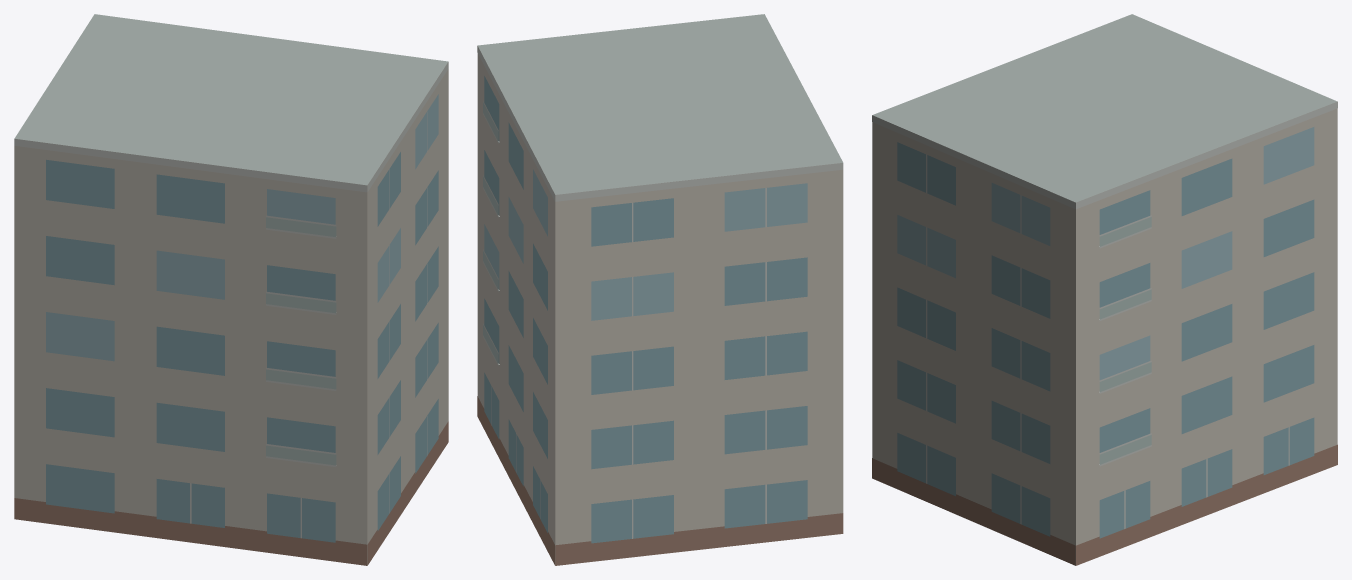
The model's file is survey-upis-32892578.glb.
3 renders of one model, left to right at view 1: azimuth 30°, elevation 25°; view 2: azimuth 150°, elevation 25°; view 3: azimuth 270°, elevation 25°, orthographic. The views are drawn at different scales.
Visible parts, largest first — view 1: survey-upis-32892578.tmp; view 2: survey-upis-32892578.tmp; view 3: survey-upis-32892578.tmp.
Boxes of the visible parts, x1,y1,x2,y2 form: survey-upis-32892578.tmp: (14, 14, 448, 565); survey-upis-32892578.tmp: (477, 14, 843, 565); survey-upis-32892578.tmp: (872, 14, 1337, 565).
Bounding box in the file's own units: 14.59 × 13.1 × 15.22.
